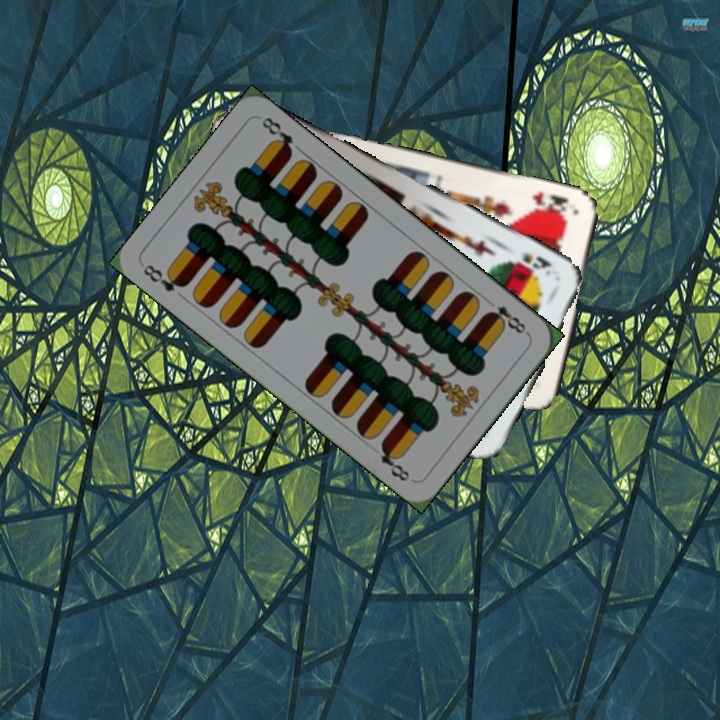E8: (482, 301, 532, 338), (139, 260, 190, 295)
HK: (528, 187, 572, 218)
SK: (518, 249, 554, 279)
